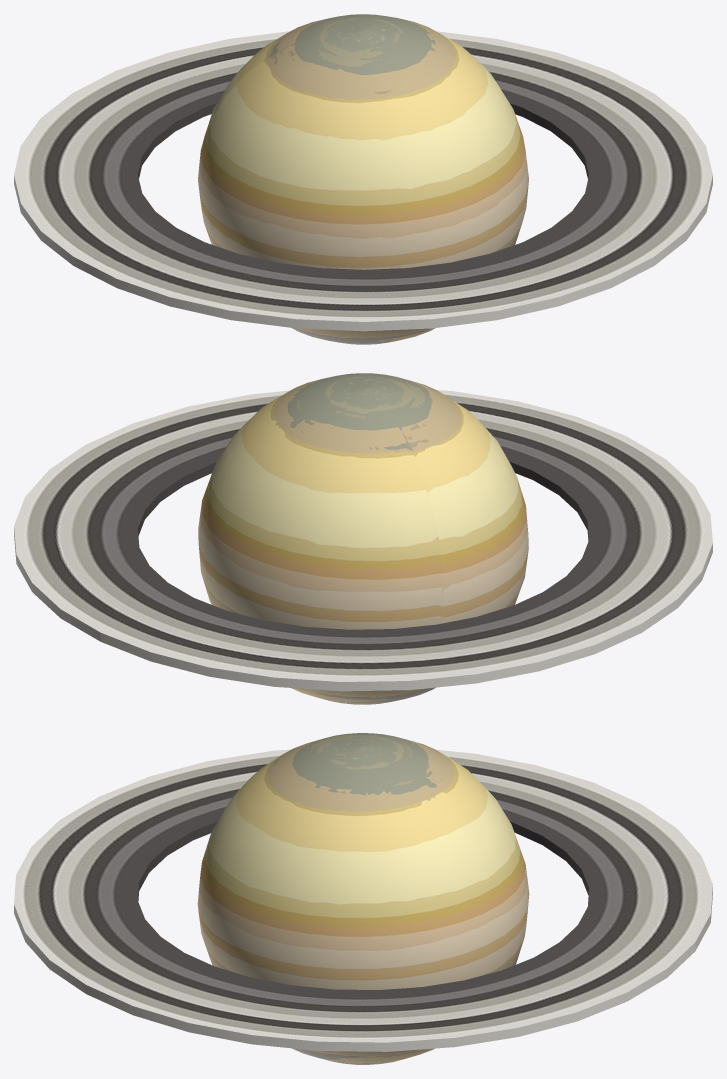
Rendered from saturn.glb.
3 views of the same model, one above another, from view 1: azimuth 30°, elevation 25°; view 2: azimuth 150°, elevation 25°; view 3: azimuth 270°, elevation 25° (orthographic).
Visible parts, largest first — view 1: Saturn; view 2: Saturn; view 3: Saturn.
Part boxes in pixels (bbox=[...]): Saturn: bbox=[14, 14, 712, 344]; Saturn: bbox=[14, 373, 712, 704]; Saturn: bbox=[14, 733, 712, 1064].
Size of the model in its own units: 2.57 by 1.22 by 2.57.
1 material, 1 textured.
